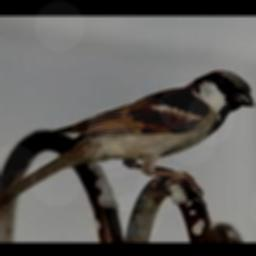Sparrow: (0, 71, 253, 208)
